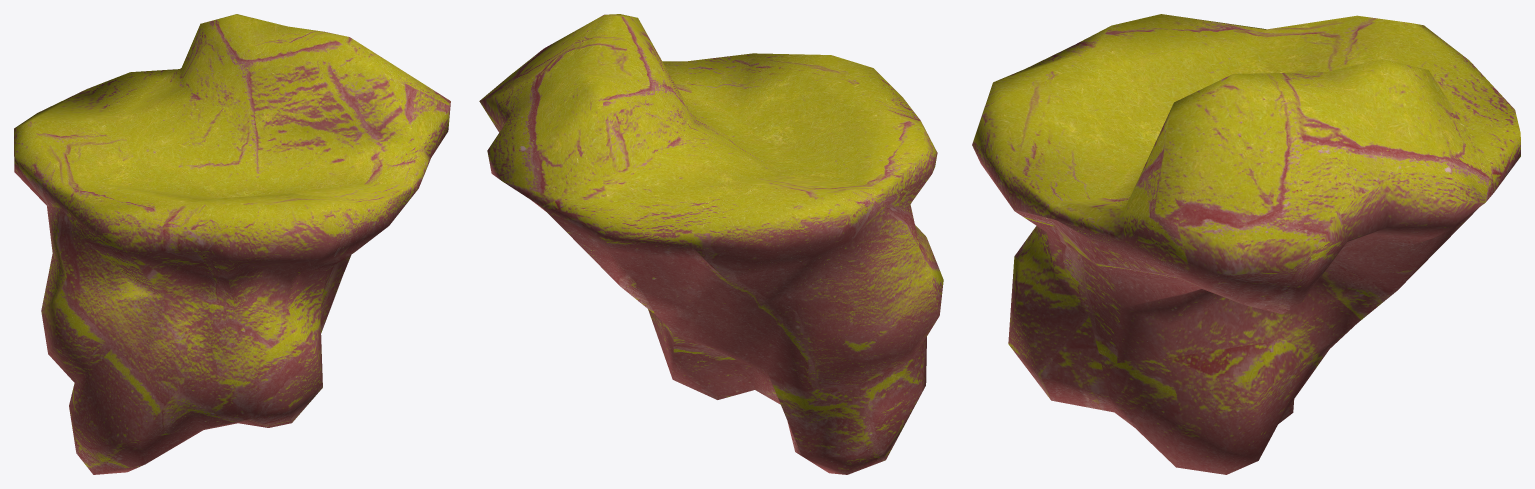
File: IslandSub.fbx
3 views of the same model, side by side, from view 1: azimuth 30°, elevation 25°; view 2: azimuth 150°, elevation 25°; view 3: azimuth 270°, elevation 25° (orthographic). The views are drawn at different scales.
Visible parts, largest first — view 1: IslandSub; view 2: IslandSub; view 3: IslandSub.
Part boxes in pixels (x1=…): IslandSub: x1=14, y1=14, x2=450, y2=474; IslandSub: x1=479, y1=14, x2=943, y2=474; IslandSub: x1=972, y1=14, x2=1520, y2=474.
Size of the model in its own units: 540 by 496 by 491.
